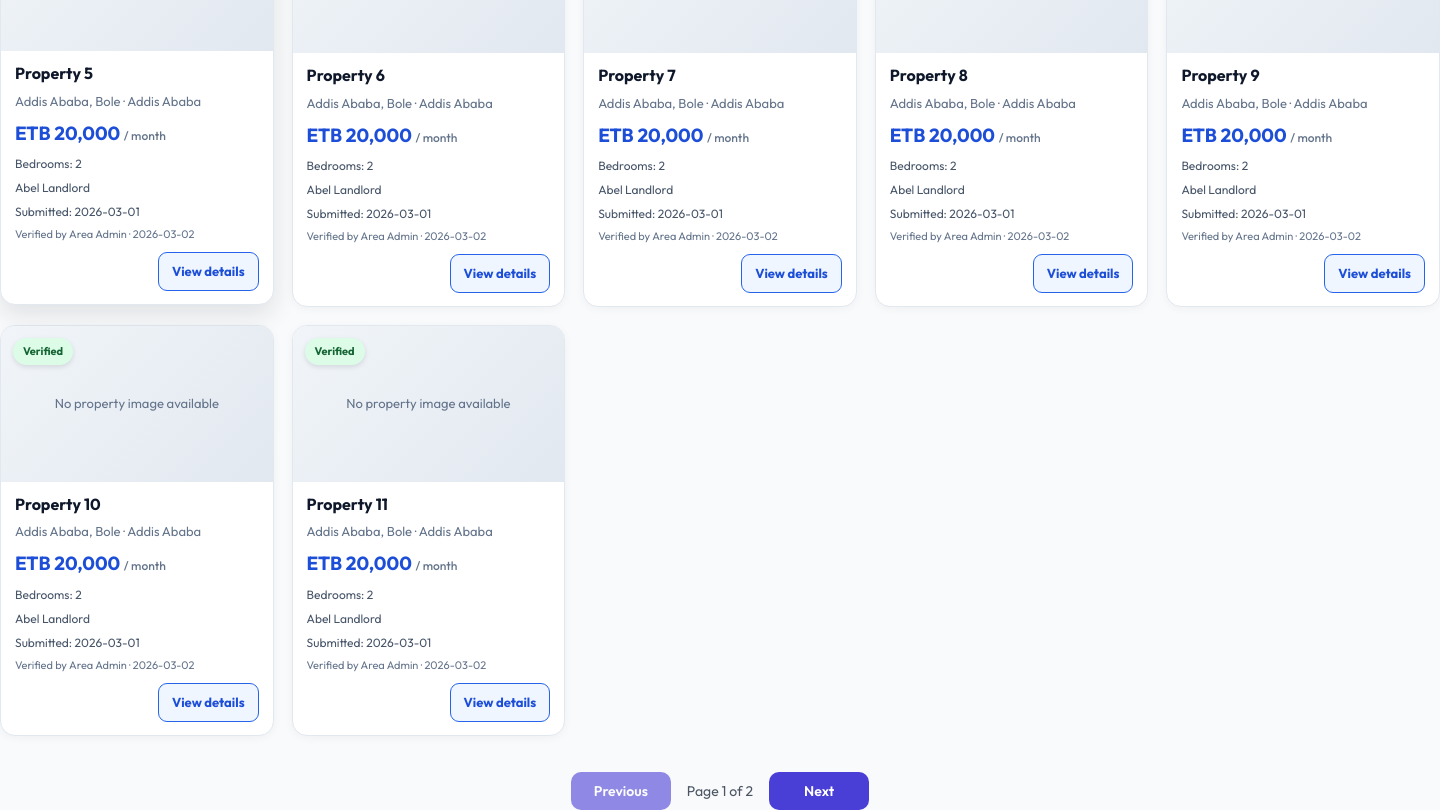
Scenario: paginates local results by twelve
The width and height of the screenshot is (1440, 810).
(page scrolled)
Click the button "Next".
click(819, 791)  # box [769,772,869,809]
(page scrolled)
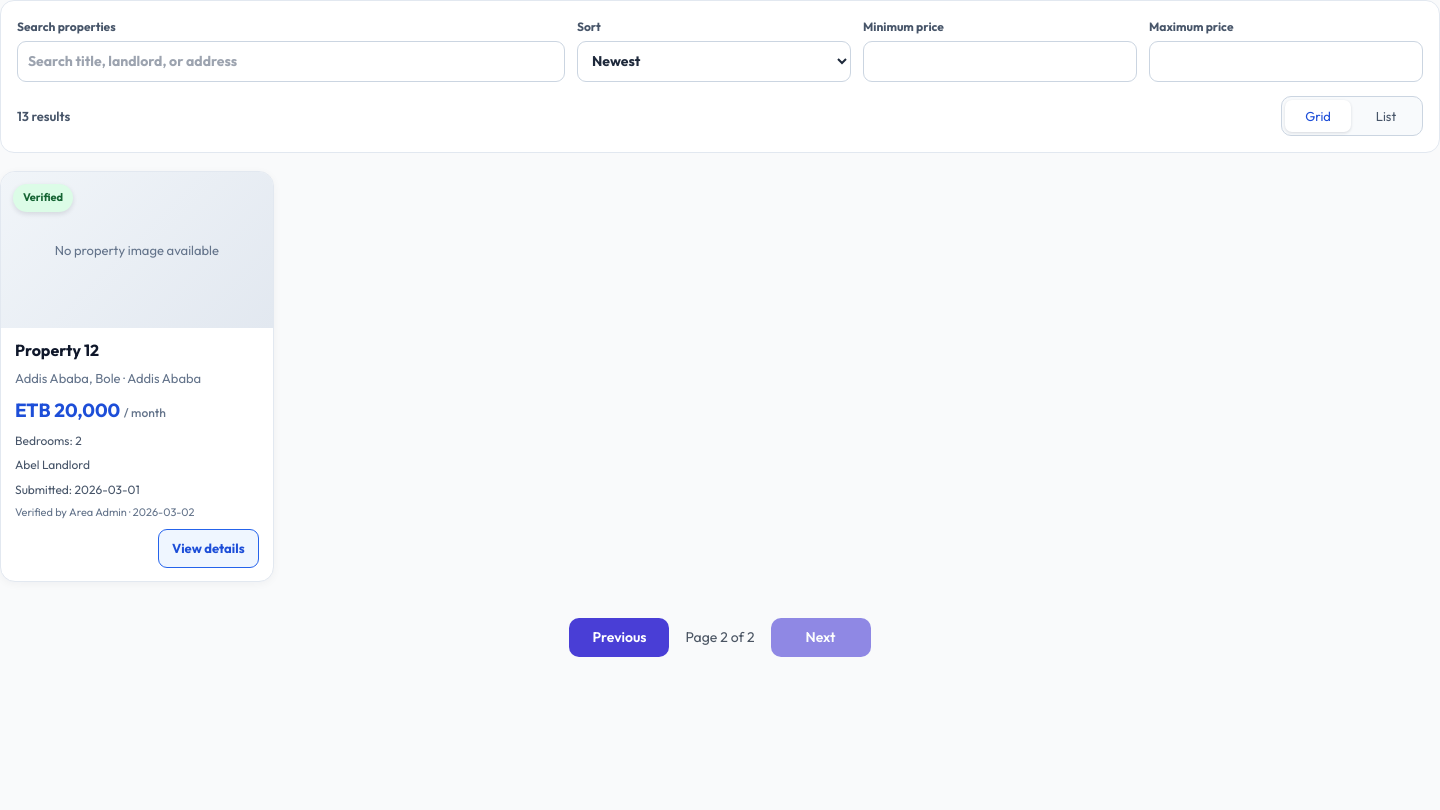
Expected: the number of headings is 1, [15,340,99,360]
